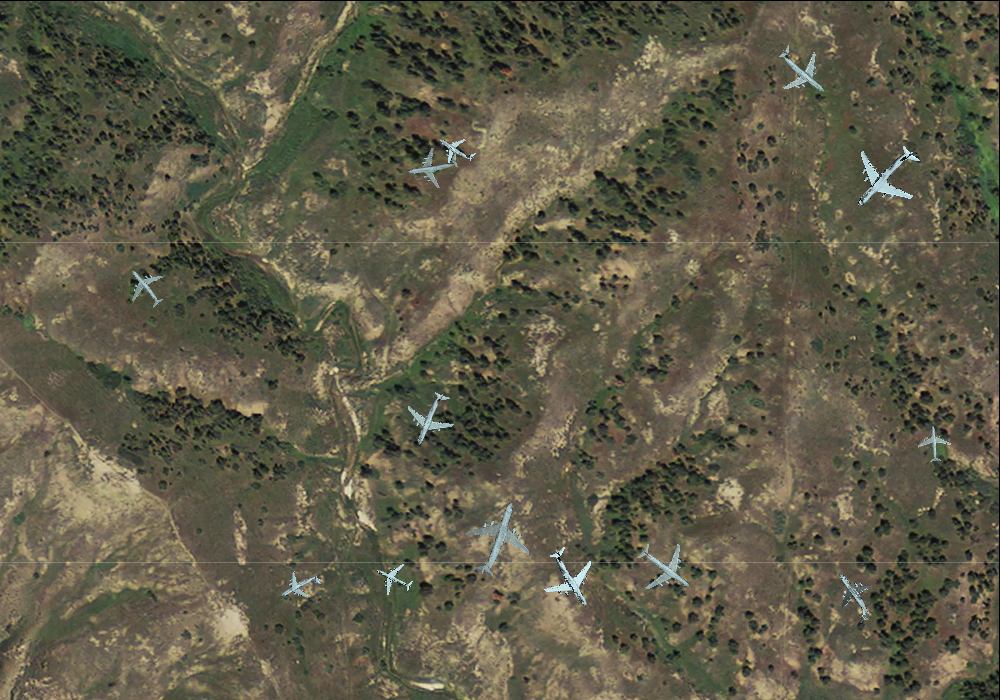plane: (832, 124, 939, 231), (450, 491, 543, 587), (528, 535, 613, 621), (624, 527, 706, 609), (763, 30, 843, 110), (395, 382, 466, 455), (819, 562, 888, 632), (115, 257, 175, 317), (404, 139, 461, 193), (272, 561, 327, 614), (430, 123, 482, 174), (369, 554, 418, 603), (916, 424, 953, 463)
